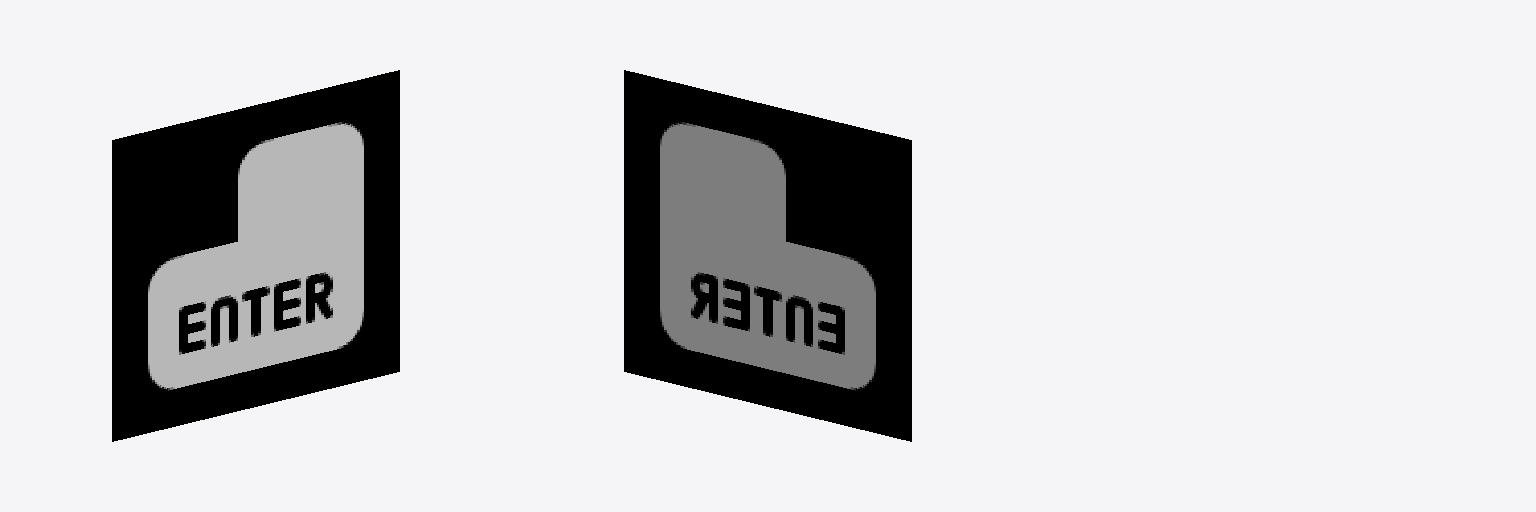
3 renders of one model, left to right at view 1: azimuth 30°, elevation 25°; view 2: azimuth 150°, elevation 25°; view 3: azimuth 270°, elevation 25°, orthographic.
Visible parts, largest first — view 1: Plane001; view 2: Plane001; view 3: none.
Part boxes in pixels (left/top/right/bottom): Plane001: left=112, top=70, right=399, bottom=441; Plane001: left=624, top=70, right=911, bottom=441.
Size of the model in its own units: 2 by 2 by 0.
1 materials, 1 textured.